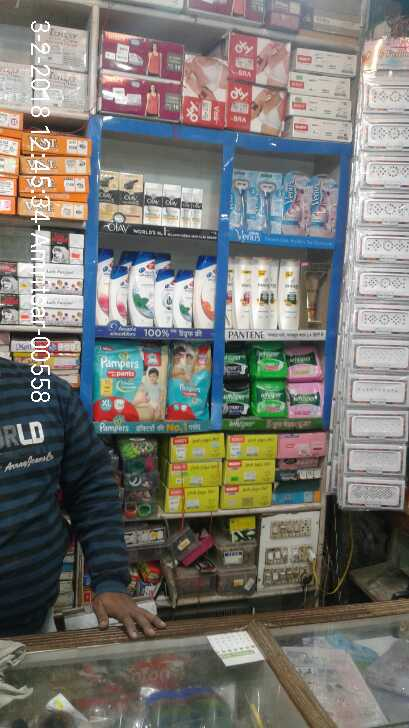venus: (283, 172, 310, 234), (232, 168, 257, 231), (257, 173, 282, 231), (312, 177, 338, 232)
